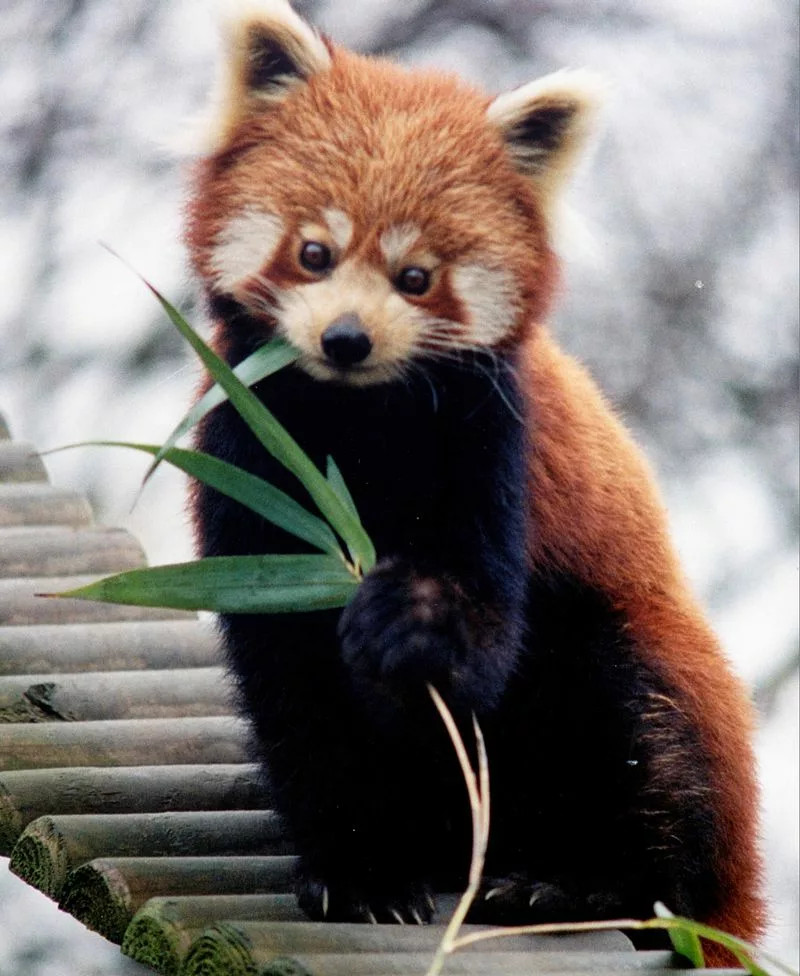Red panda: (163, 0, 615, 388)
